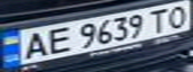3: (109, 14, 133, 43)
6: (93, 17, 115, 46)
9: (75, 20, 100, 50), (127, 11, 151, 38)
A: (15, 29, 54, 61)
E: (39, 25, 75, 56)
O: (160, 2, 193, 29)
T: (145, 7, 172, 34)
